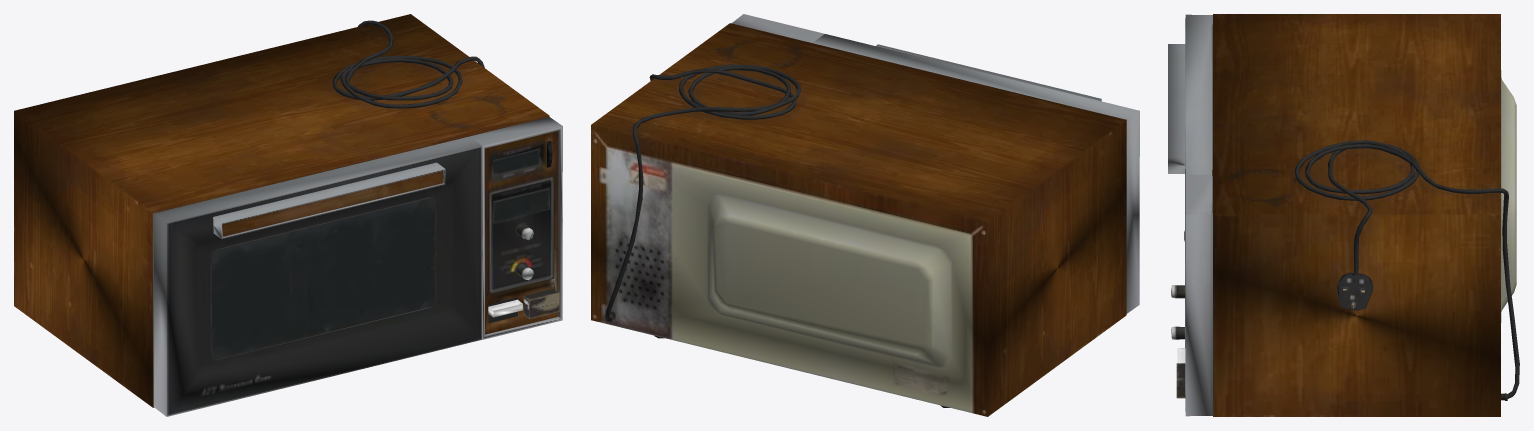
Rendered from vintage_microwave.glb.
3 views of the same model, side by side, from view 1: azimuth 30°, elevation 25°; view 2: azimuth 150°, elevation 25°; view 3: azimuth 270°, elevation 25° (orthographic). The views are drawn at different scales.
Visible parts, largest first — view 1: vintage_microwave; view 2: vintage_microwave; view 3: vintage_microwave.
Part boxes in pixels (<box>): vintage_microwave: <box>14,14,562,416</box>; vintage_microwave: <box>591,14,1139,416</box>; vintage_microwave: <box>1168,14,1519,416</box>.
Size of the model in its own units: 1.07 by 0.5258 by 0.7447.
Materials: 2 (2 with a texture image).
